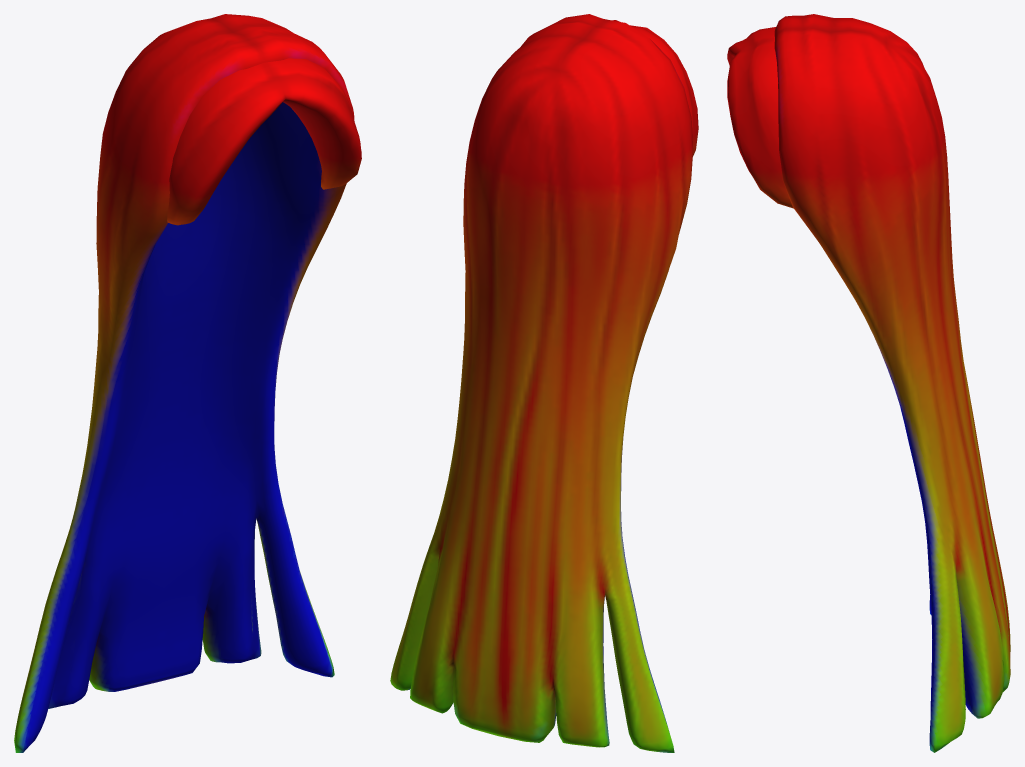
Rendered from HairBack_LongCut.obj.
3 views of the same model, side by side, from view 1: azimuth 30°, elevation 25°; view 2: azimuth 150°, elevation 25°; view 3: azimuth 270°, elevation 25° (orthographic). The views are drawn at different scales.
Parts seen in each view (by area): view 1: HairBack_LongCut_0; view 2: HairBack_LongCut_0; view 3: HairBack_LongCut_0.
Part boxes in pixels (box(x1,y1,x2,y2)): HairBack_LongCut_0: box(14, 14, 361, 752); HairBack_LongCut_0: box(390, 14, 698, 752); HairBack_LongCut_0: box(727, 14, 1010, 752).
Bounding box in the file's own units: 0.3309 × 0.7241 × 0.2829.
Materials: 1 (1 with a texture image).
